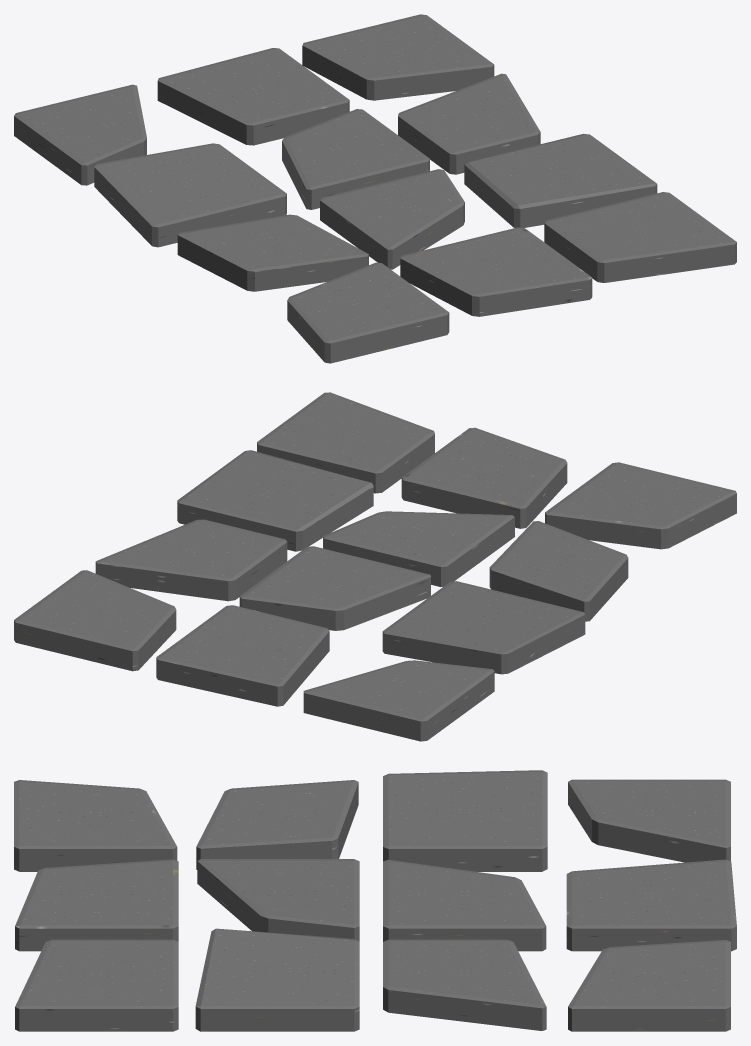
Rendered from brokenTiles.fbx.
3 renders of one model, top to bottom at view 1: azimuth 30°, elevation 25°; view 2: azimuth 150°, elevation 25°; view 3: azimuth 270°, elevation 25°, orthographic. The views are drawn at different scales.
Parts seen in each view (by area): view 1: Cube; view 2: Cube; view 3: Cube.
Boxes of the visible parts, left/top/right/bottom form: Cube: left=14, top=14, right=736, bottom=363; Cube: left=14, top=392, right=736, bottom=741; Cube: left=14, top=770, right=736, bottom=1031.
Bounding box in the file's own units: 676 × 44.77 × 879.
